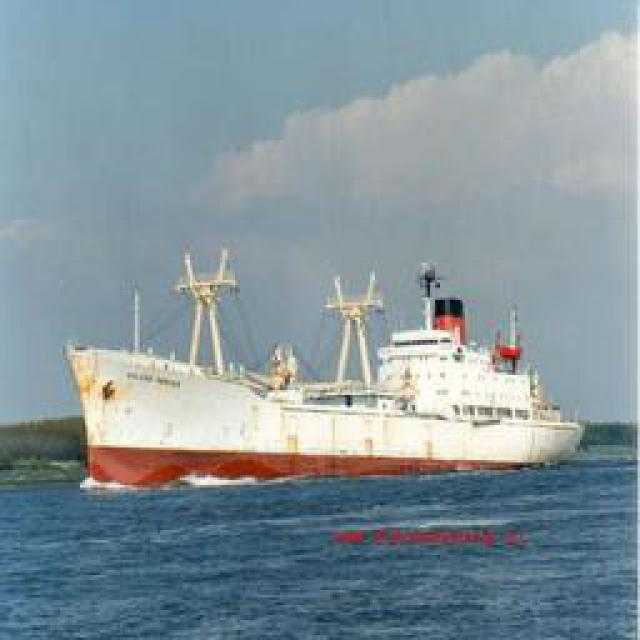Ship: (70, 243, 583, 491)
